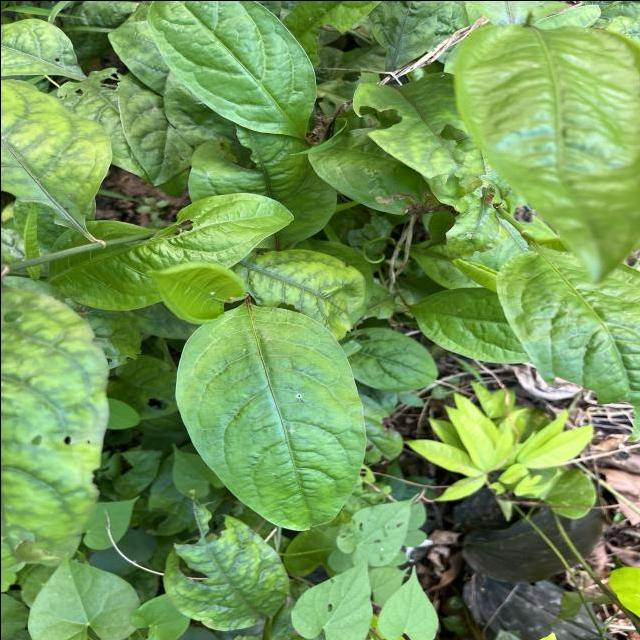Plumbago indica: (168, 302, 368, 534), (39, 188, 298, 318), (144, 0, 323, 137), (170, 518, 293, 635)
